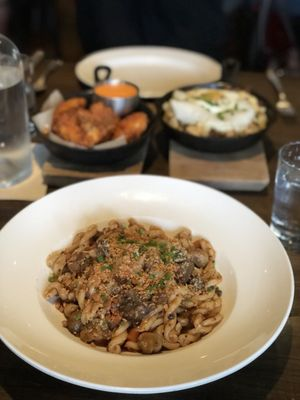pizza: (0, 32, 47, 201), (271, 140, 300, 252)
sushi: (2, 174, 295, 398), (33, 91, 159, 166), (160, 86, 269, 153)
